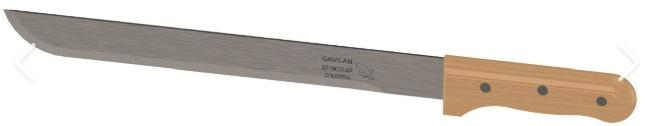MACHETTE: (0, 2, 649, 126)
